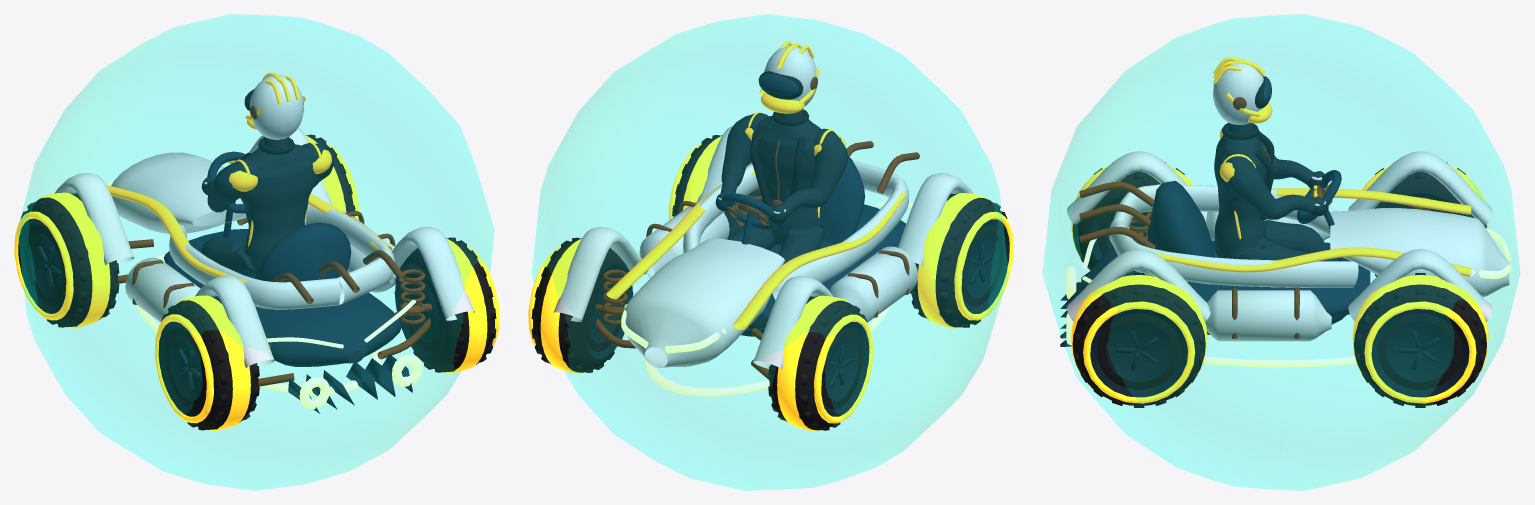
Rendered from nomad.glb.
3 renders of one model, left to right at view 1: azimuth 30°, elevation 25°; view 2: azimuth 150°, elevation 25°; view 3: azimuth 270°, elevation 25°, orthographic.
Parts seen in each view (by area): view 1: nomad:aegis-shield, nomad:coachwork-batch.001, nomad:coachwork-batch, nomad:torso, nomad:coachwork-batch.002, nomad:rounded-wheel-shell.002, nomad:rounded-wheel-shell, nomad:rounded-wheel-shell.003, nomad:translucent-tire-band.002, nomad:translucent-tire-band, nomad:helmet-shell, nomad:recessed-colored-hub.002 (+12 smaller); view 2: nomad:aegis-shield, nomad:coachwork-batch.001, nomad:torso, nomad:coachwork-batch, nomad:rounded-wheel-shell, nomad:rounded-wheel-shell.002, nomad:rounded-wheel-shell.001, nomad:coachwork-batch.002, nomad:arm-l-mesh, nomad:translucent-tire-band.002, nomad:translucent-tire-band, nomad:recessed-colored-hub (+16 smaller); view 3: nomad:aegis-shield, nomad:coachwork-batch.001, nomad:coachwork-batch, nomad:torso, nomad:rounded-wheel-shell.001, nomad:rounded-wheel-shell.003, nomad:recessed-colored-hub.001, nomad:recessed-colored-hub.003, nomad:arm-r-mesh, nomad:coachwork-batch.002, nomad:wheel-light-ring.003, nomad:wheel-light-ring.001 (+11 smaller).
Boxes of the visible parts, <box> form: nomad:aegis-shield: <box>18,14,494,490</box>; nomad:coachwork-batch.001: <box>54,127,474,367</box>; nomad:coachwork-batch: <box>163,200,412,413</box>; nomad:torso: <box>200,136,317,276</box>; nomad:coachwork-batch.002: <box>118,211,432,386</box>; nomad:rounded-wheel-shell.002: <box>165,296,258,429</box>; nomad:rounded-wheel-shell: <box>24,193,117,327</box>; nomad:rounded-wheel-shell.003: <box>396,238,494,372</box>; nomad:translucent-tire-band.002: <box>177,295,250,430</box>; nomad:translucent-tire-band: <box>36,192,110,328</box>; nomad:helmet-shell: <box>249,75,304,139</box>; nomad:recessed-colored-hub.002: <box>158,321,206,416</box>; nomad:aegis-shield: <box>532,14,1008,490</box>; nomad:coachwork-batch.001: <box>553,126,973,369</box>; nomad:torso: <box>727,109,825,264</box>; nomad:coachwork-batch: <box>741,155,905,336</box>; nomad:rounded-wheel-shell: <box>769,296,862,430</box>; nomad:rounded-wheel-shell.002: <box>911,193,1003,327</box>; nomad:rounded-wheel-shell.001: <box>533,238,629,372</box>; nomad:coachwork-batch.002: <box>595,141,919,379</box>; nomad:arm-l-mesh: <box>772,128,847,216</box>; nomad:translucent-tire-band.002: <box>917,193,990,328</box>; nomad:translucent-tire-band: <box>777,295,850,431</box>; nomad:recessed-colored-hub: <box>821,322,869,416</box>; nomad:aegis-shield: <box>1042,14,1520,490</box>; nomad:coachwork-batch.001: <box>1067,151,1509,341</box>; nomad:coachwork-batch: <box>1060,180,1370,346</box>; nomad:torso: <box>1214,122,1327,261</box>; nomad:rounded-wheel-shell.001: <box>1354,284,1486,405</box>; nomad:rounded-wheel-shell.003: <box>1072,284,1205,405</box>; nomad:recessed-colored-hub.001: <box>1371,309,1469,397</box>; nomad:recessed-colored-hub.003: <box>1090,309,1187,397</box>; nomad:arm-r-mesh: <box>1223,151,1324,219</box>; nomad:coachwork-batch.002: <box>1079,181,1431,338</box>; nomad:wheel-light-ring.003: <box>1083,301,1195,403</box>; nomad:wheel-light-ring.001: <box>1364,301,1476,403</box>.
Bounding box in the file's own units: 4.3 × 4.3 × 4.3.
